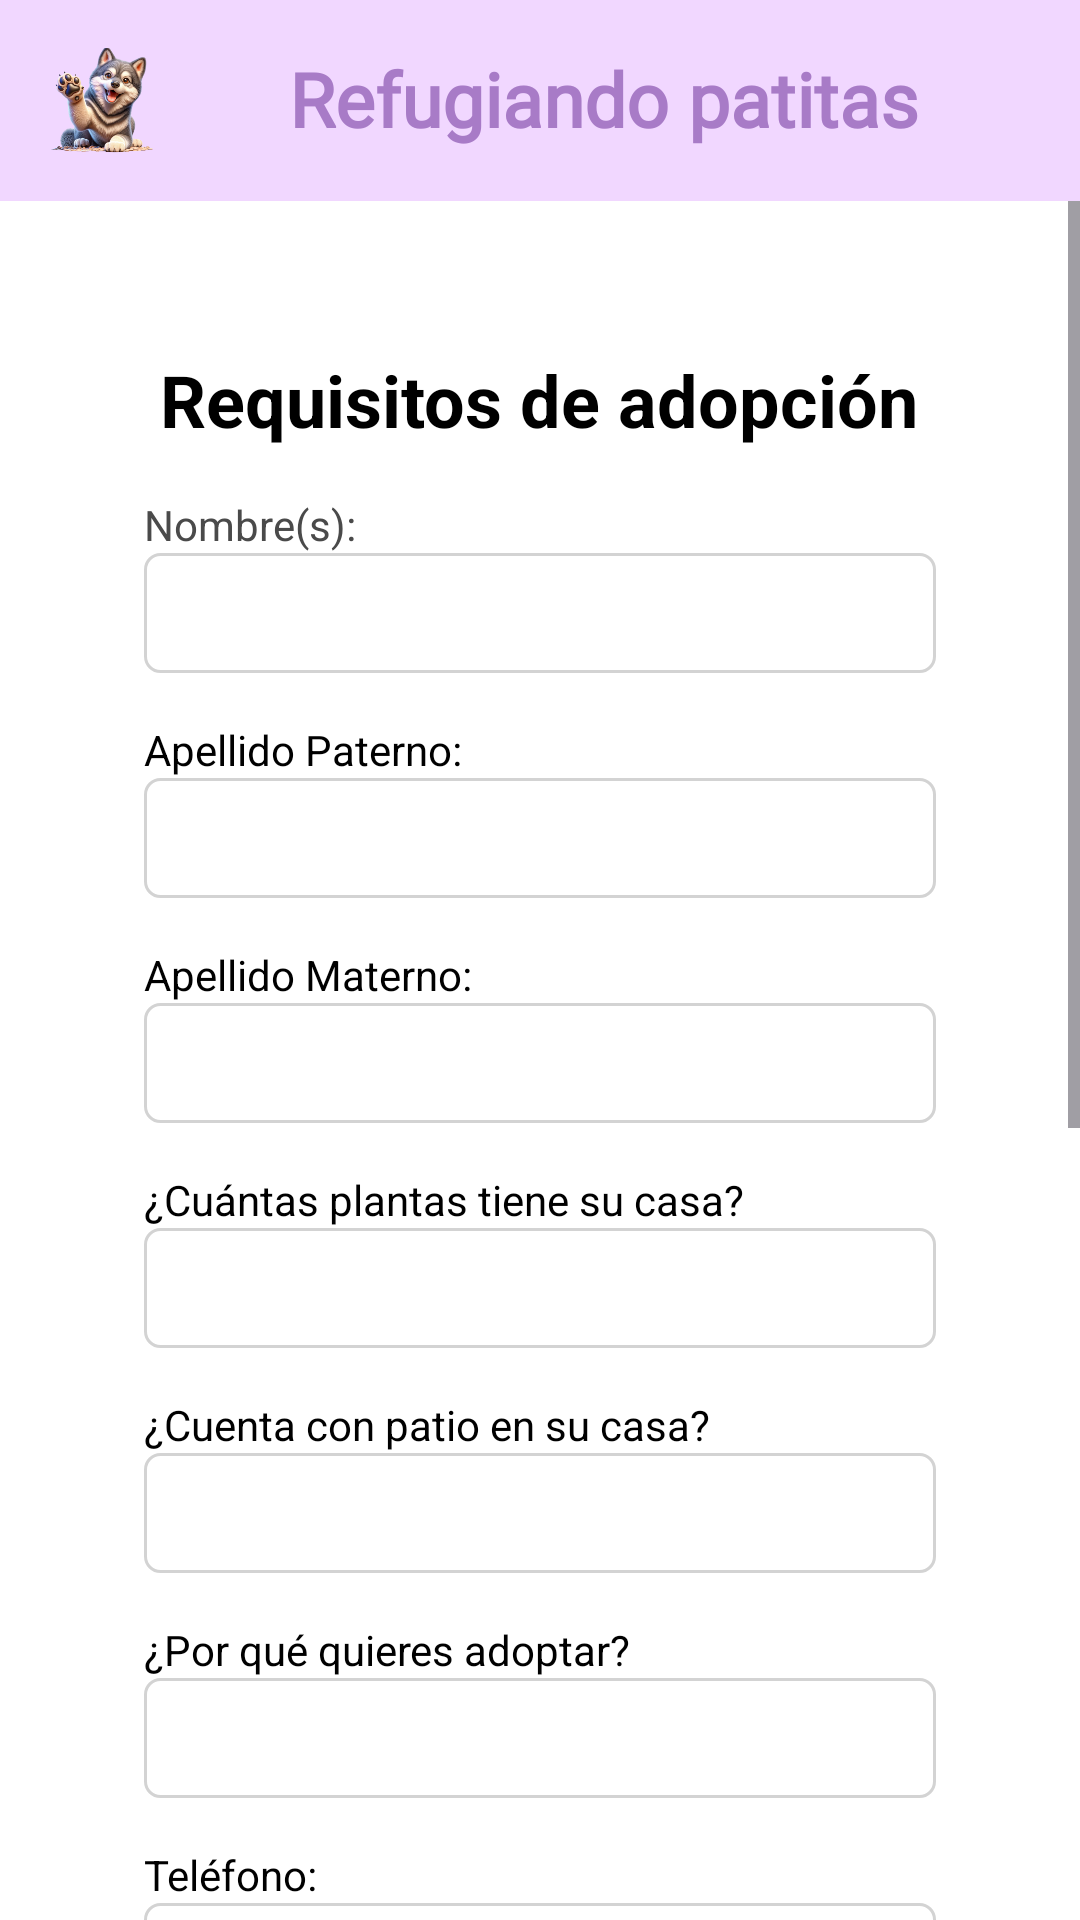

Icons on this 1080x1920 Android screen, each with the point to tap as (x=x, y=y):
perro: (x=102, y=100)
